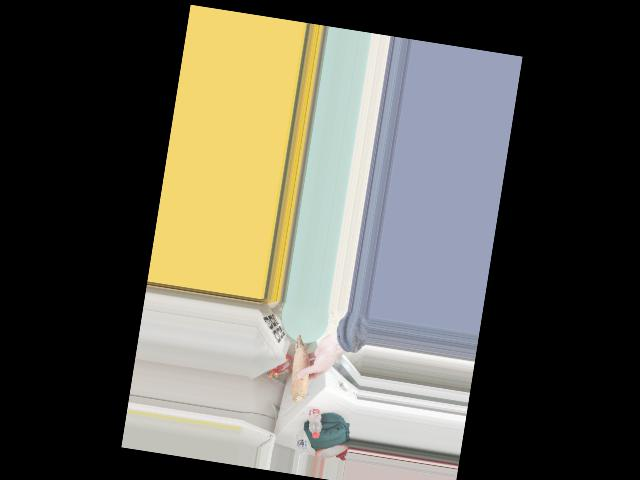sweet_potato: (288, 337, 316, 403)
